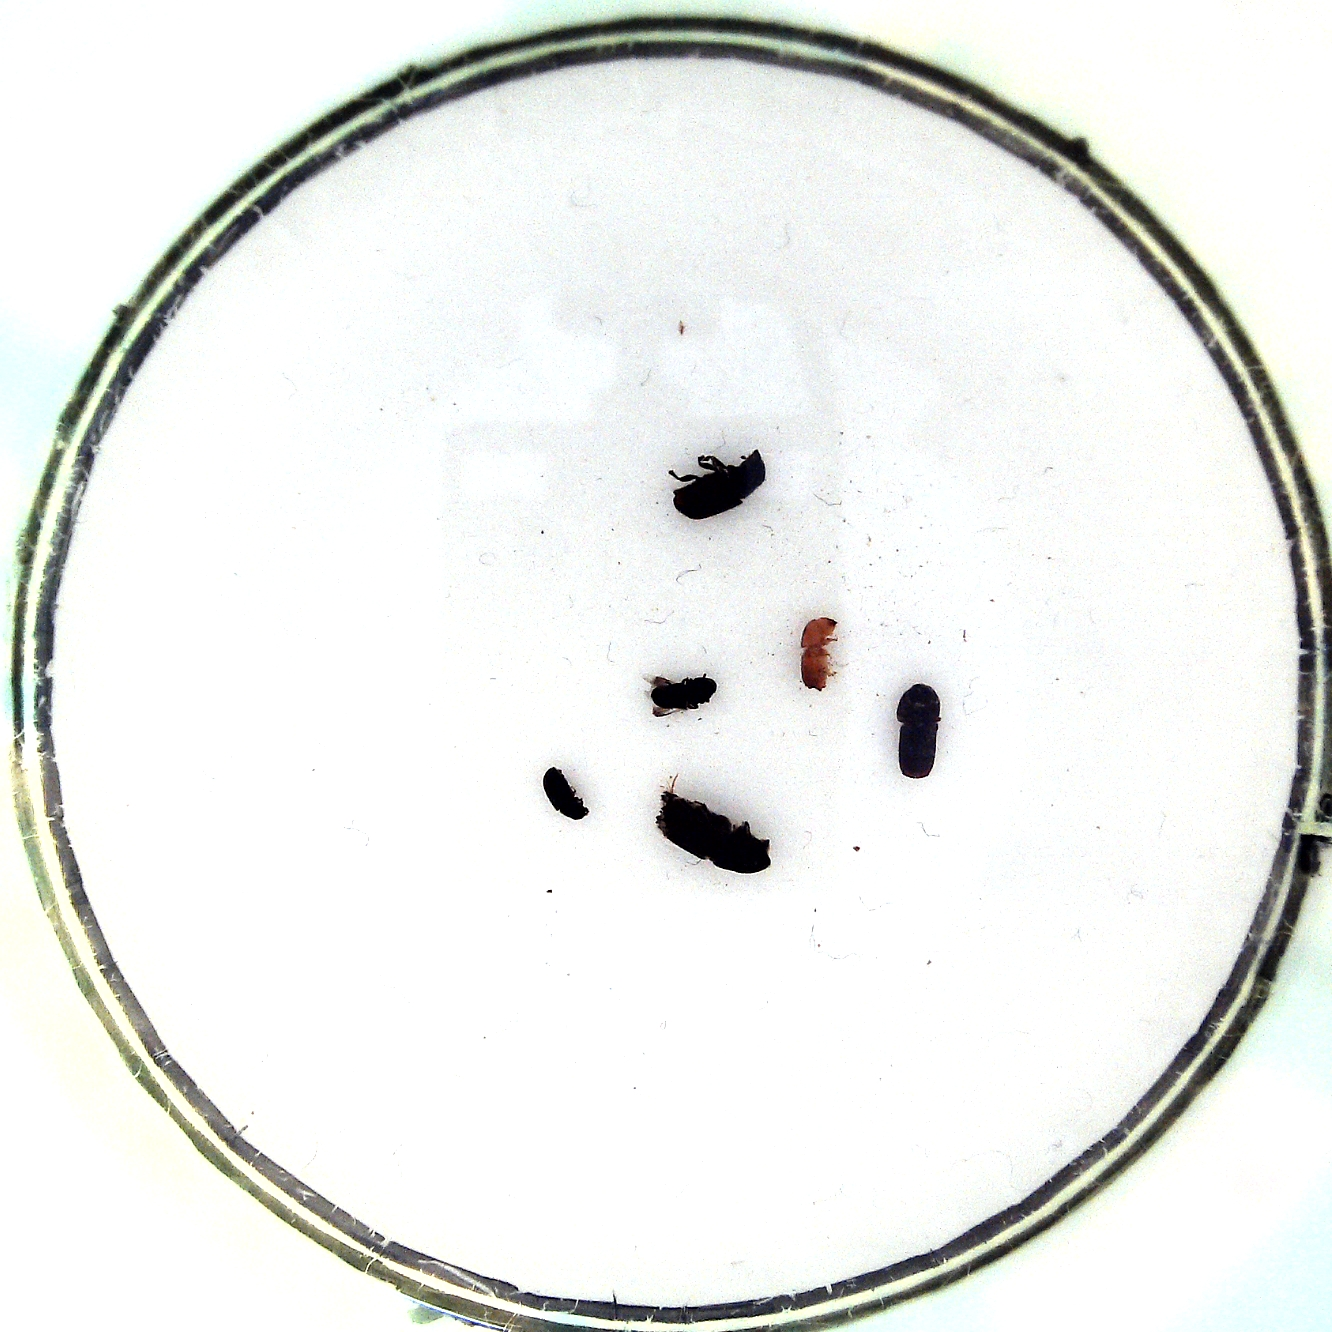Boerner: (650, 778, 781, 879)
Linnaeus: (890, 678, 945, 784)
acuminatus: (795, 609, 845, 696)
armandi: (661, 445, 771, 523)
coleoptera: (638, 668, 720, 723), (535, 760, 594, 823)
